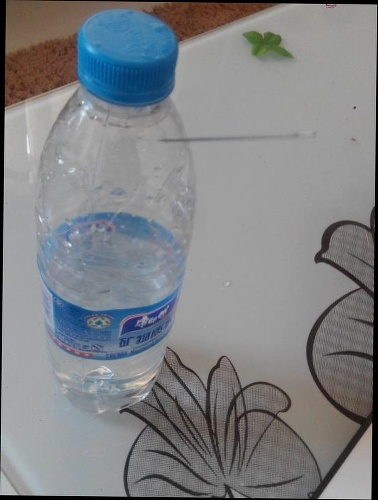bottle: (27, 74, 209, 500)
